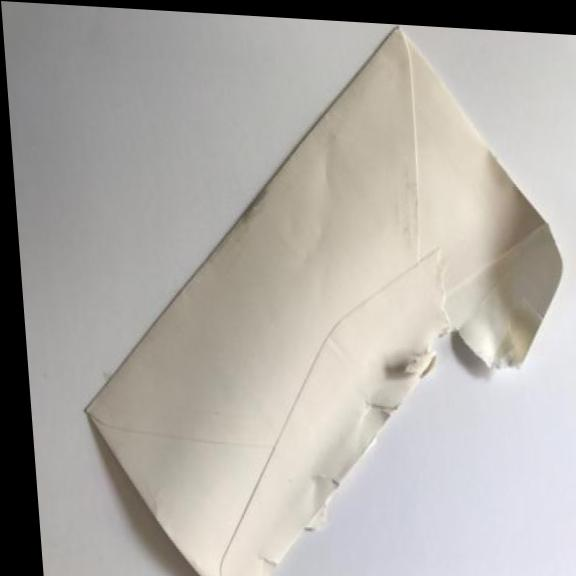Kertas: (46, 3, 576, 576)
